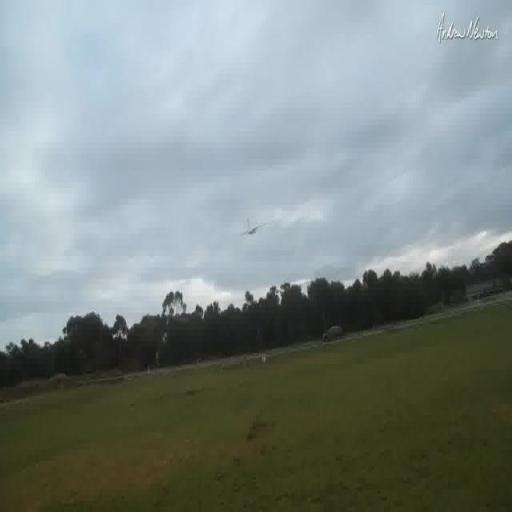uav: (235, 214, 272, 241)
